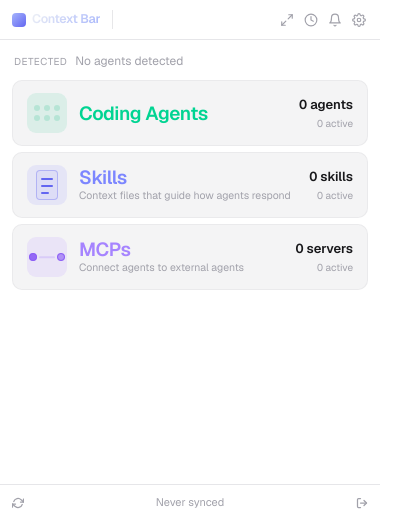
App — navigation › Escape from notifications returns to main
Click the button named "Notifications".
click(335, 20)  # box 324,8 -> 346,30
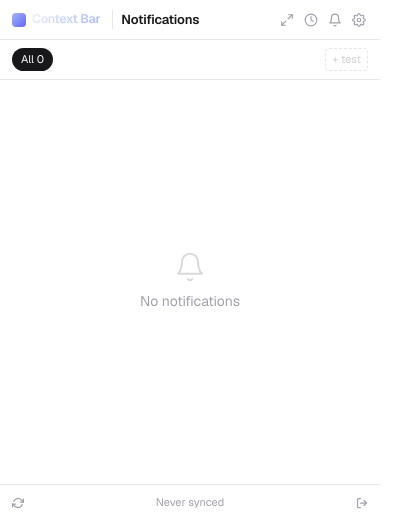
Press Escape
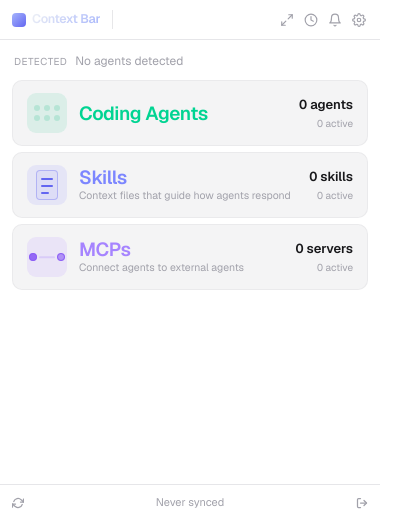
Result: the text "Coding Agents" is shown at 79,100 -> 208,126
